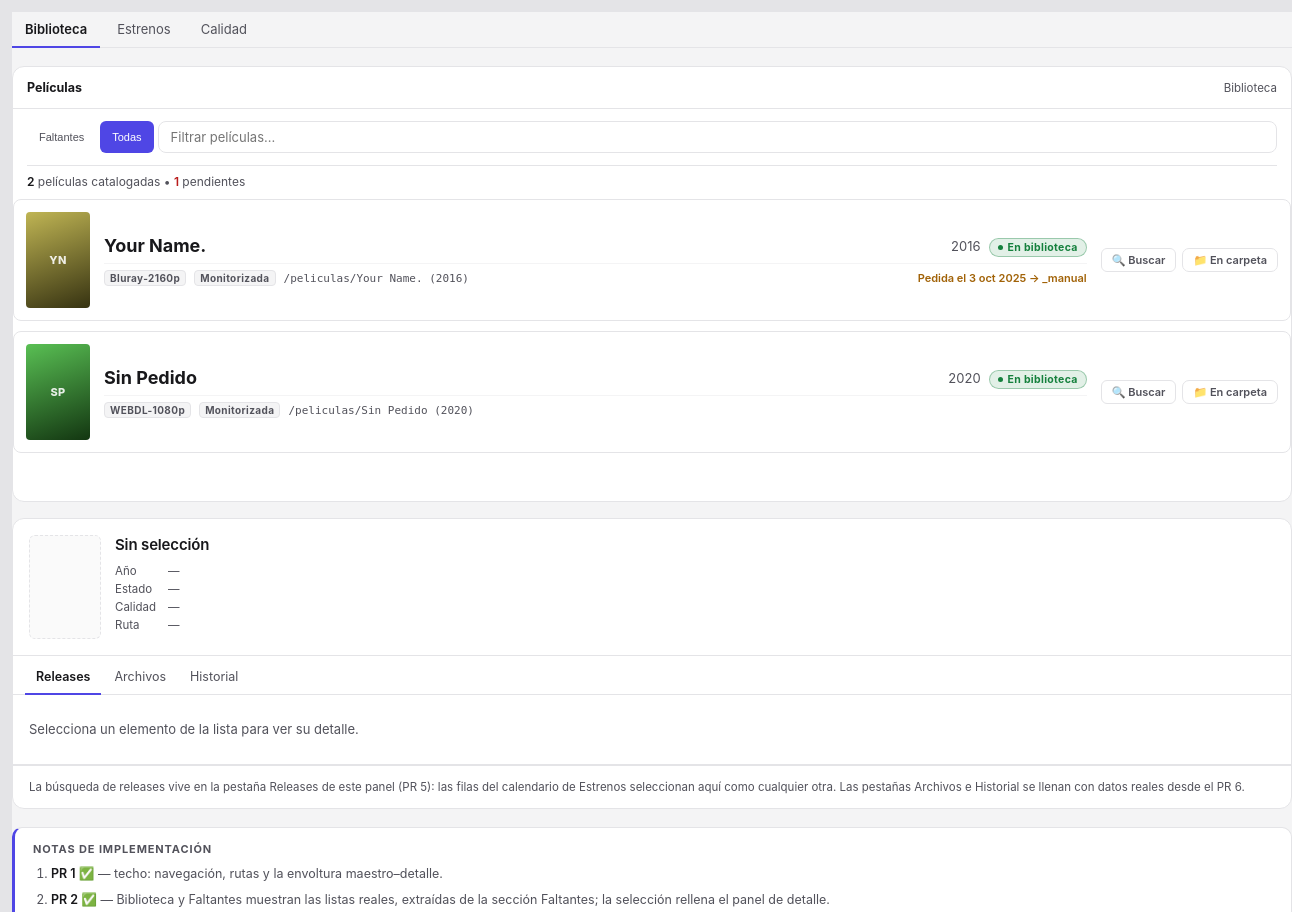
Test: sections · PR 6 — the detail tabs › Películas · Historial reads the row’s own grab record in es-ES
Expected: the text "Sin Pedido" is shown, [104,367,197,388]
Click the element with class "sec-row" that starts with "Your Name." at {"x": 652, "y": 260}, box [13,199,1291,321]
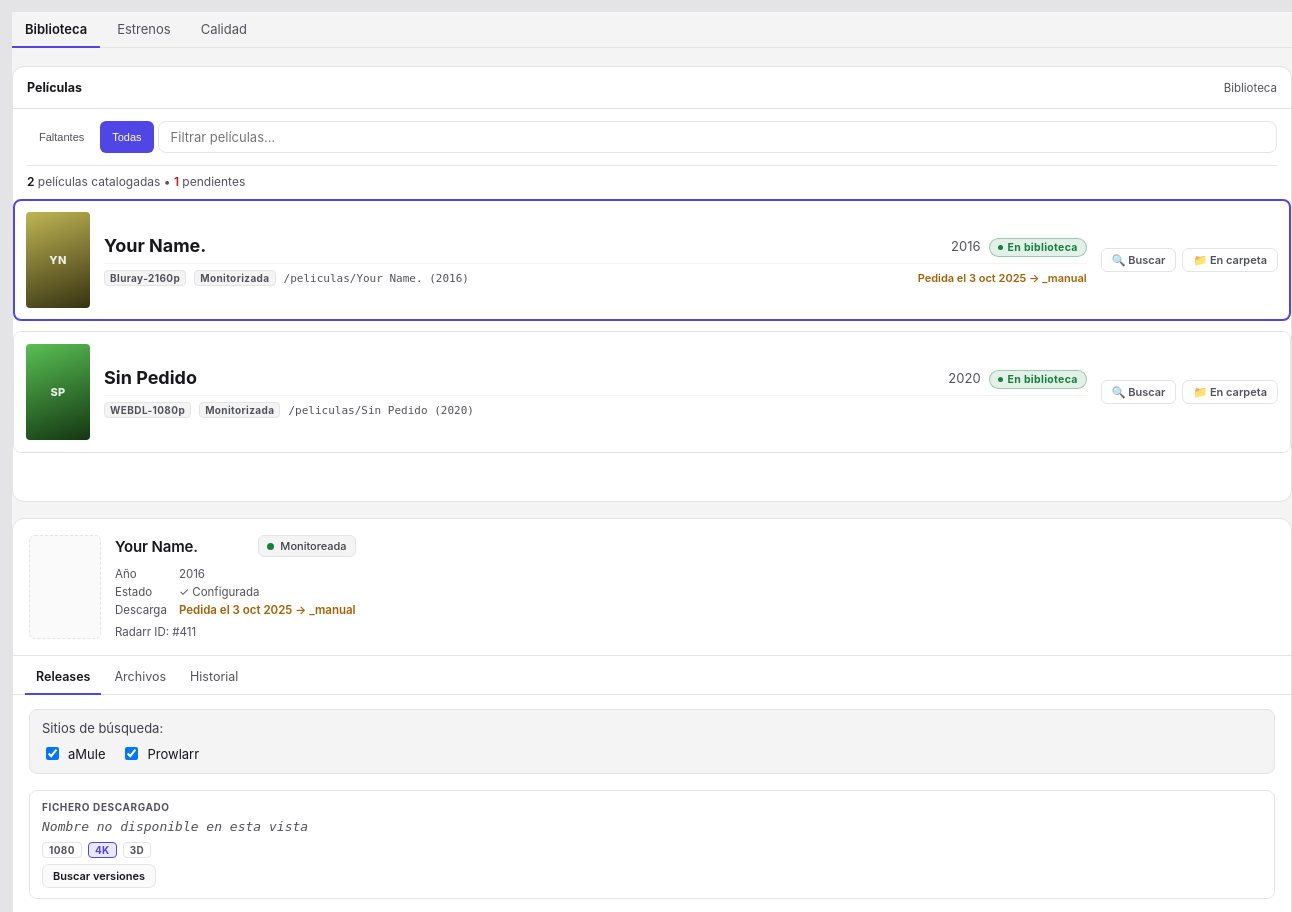
Click the button "Historial" at {"x": 214, "y": 678}, box [179,660,249,695]
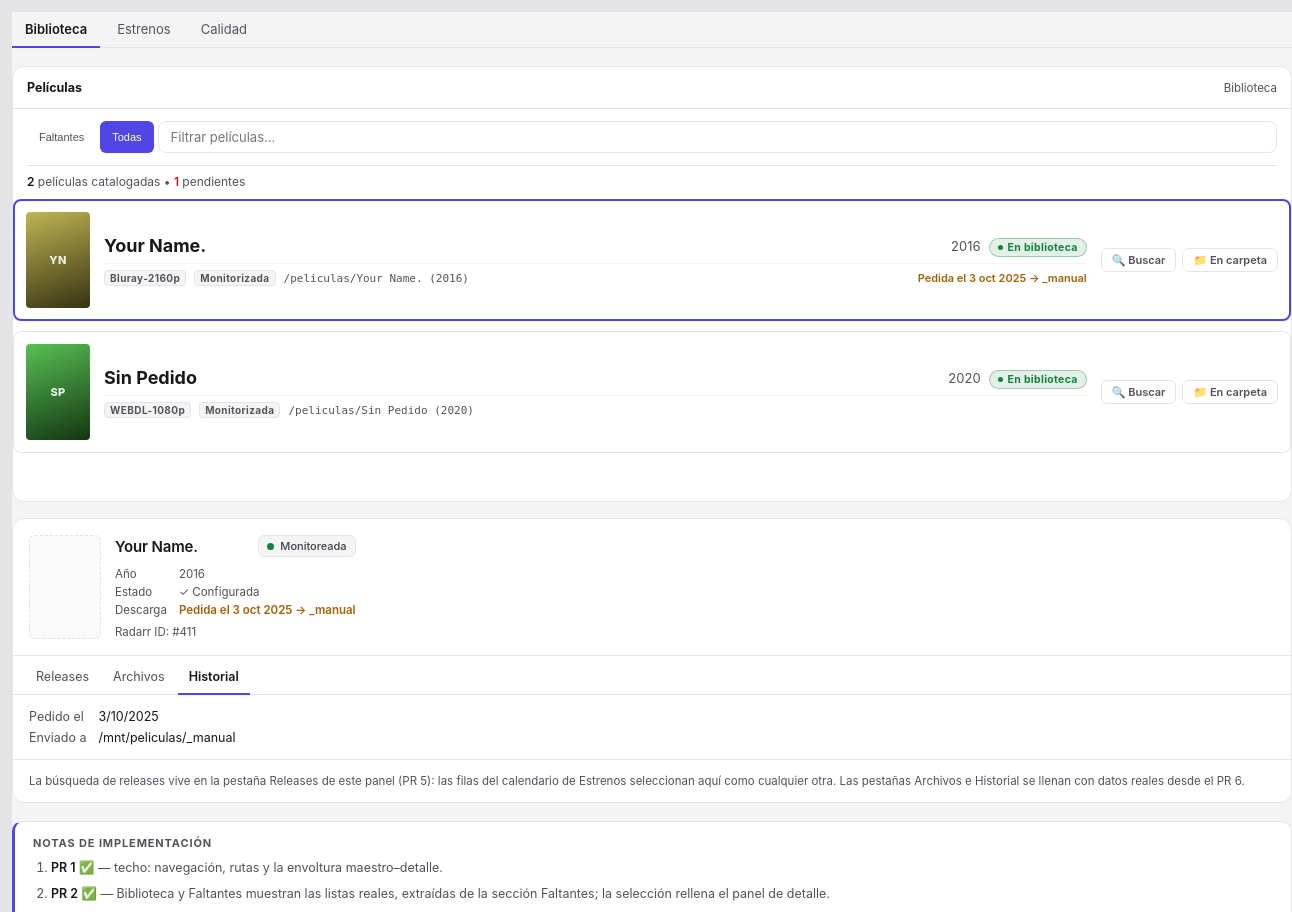
Expected: the text "/mnt/peliculas/_manual" is shown, [98,730,236,745]
